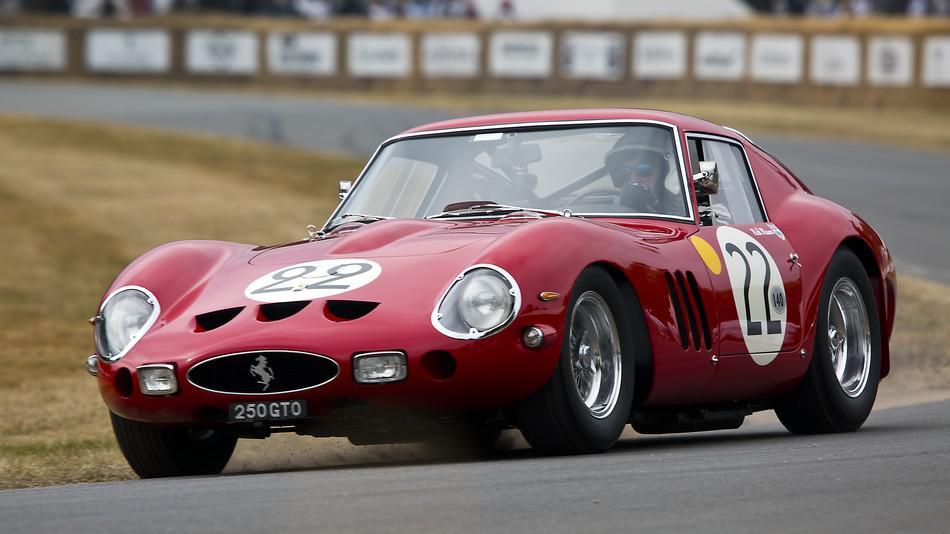car: (70, 77, 915, 481)
